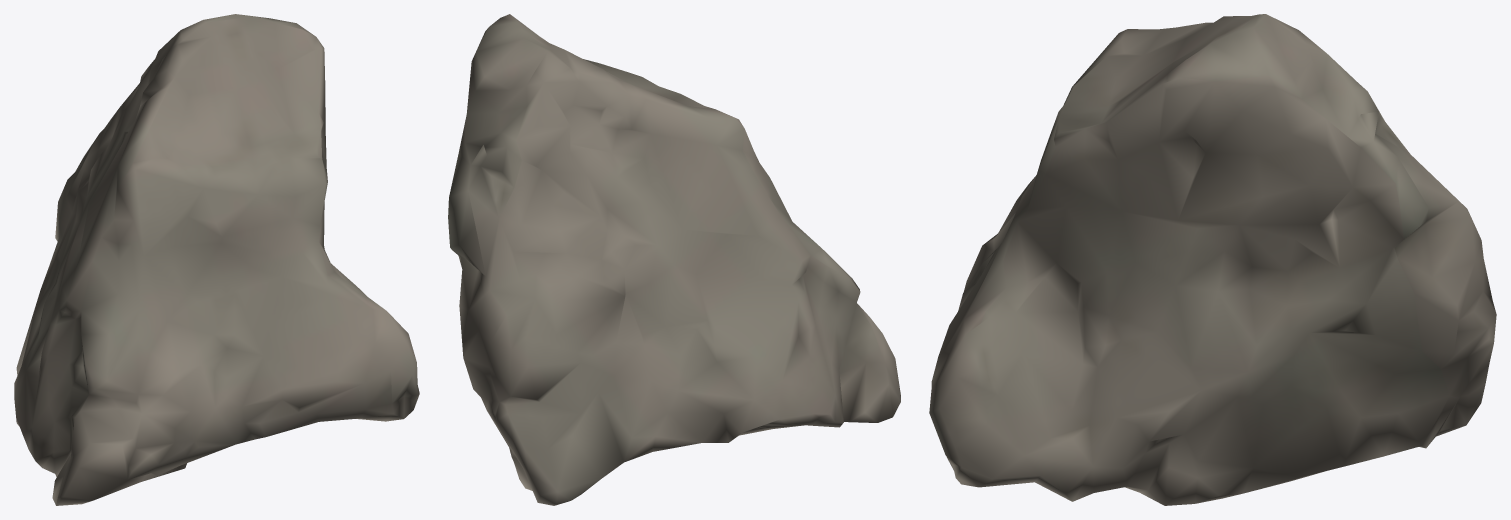
File: moon_rock_05_lod2.glb
3 renders of one model, left to right at view 1: azimuth 30°, elevation 25°; view 2: azimuth 150°, elevation 25°; view 3: azimuth 270°, elevation 25°, orthographic. The views are drawn at different scales.
Parts seen in each view (by area): view 1: moon_rock_05_LOD0; view 2: moon_rock_05_LOD0; view 3: moon_rock_05_LOD0.
Boxes of the visible parts, x1=… form: moon_rock_05_LOD0: x1=14, y1=14, x2=419, y2=505; moon_rock_05_LOD0: x1=448, y1=14, x2=900, y2=505; moon_rock_05_LOD0: x1=929, y1=14, x2=1496, y2=505.
Bounding box in the file's own units: 0.0716 × 0.0733 × 0.0811.
Materials: 1 (1 with a texture image).
